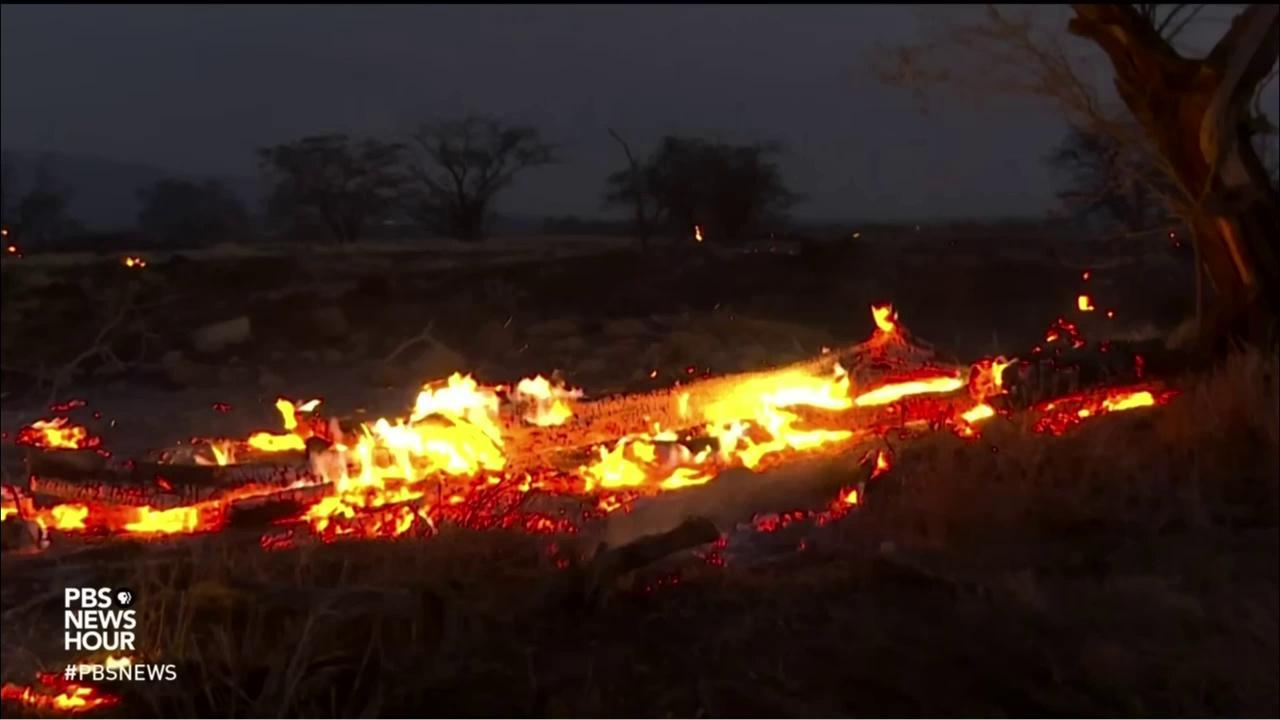fire: (0, 353, 1019, 571), (1029, 380, 1182, 439), (1, 668, 122, 716), (14, 415, 113, 459), (1044, 315, 1085, 350), (870, 301, 900, 334), (48, 398, 89, 412), (1076, 294, 1096, 313), (1134, 352, 1146, 379), (210, 400, 232, 414), (124, 257, 147, 268), (693, 224, 702, 243), (1030, 346, 1041, 354), (7, 245, 16, 253), (1, 227, 8, 237), (1107, 311, 1114, 319)
